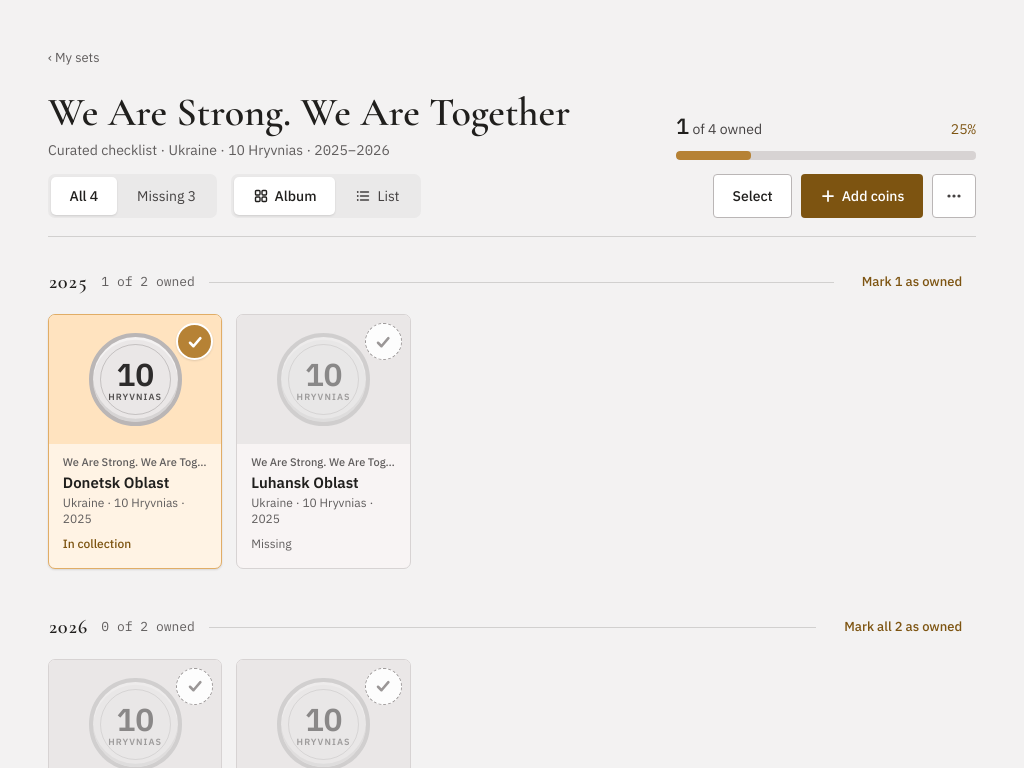
SetEditorPage › rename (behind the ⋯ menu) › cancels on Escape: no mutate, the input goes away and the old name stays
The width and height of the screenshot is (1024, 768).
Expected: the heading "We Are Strong. We Are Together" is shown, [48,90,648,134]
Click the button with test id "set-editor-actions-trigger".
click(954, 196)  # box [932,174,976,218]
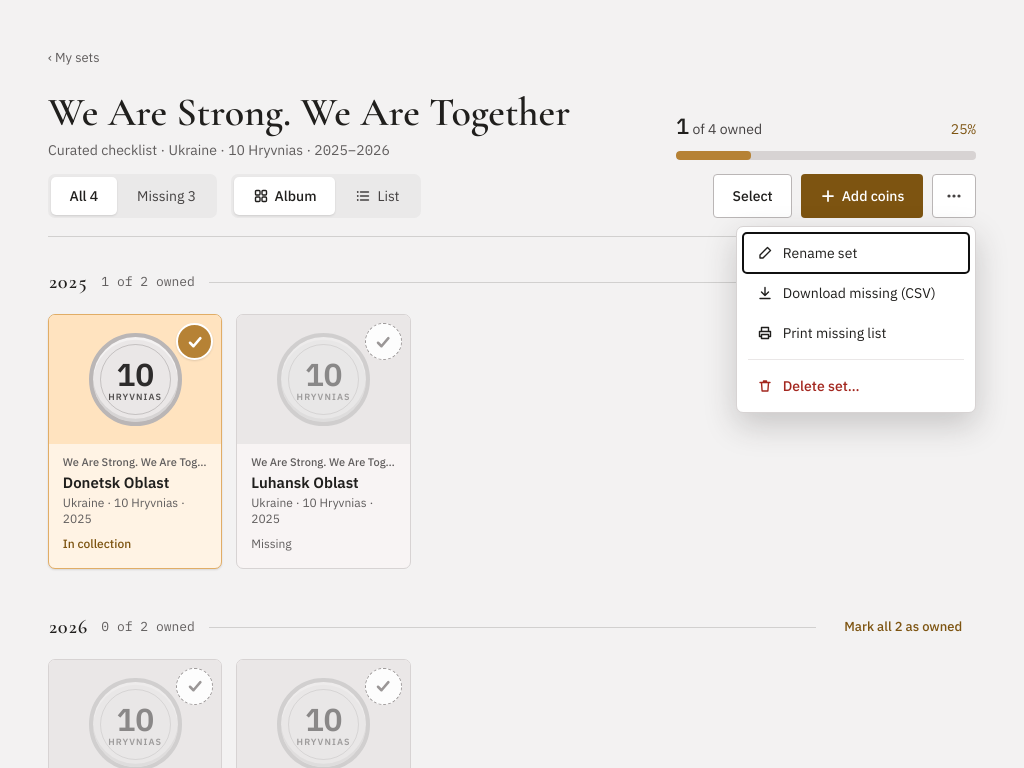
Click the menu item with test id "set-editor-rename-item".
click(856, 253)  # box [743,233,969,273]
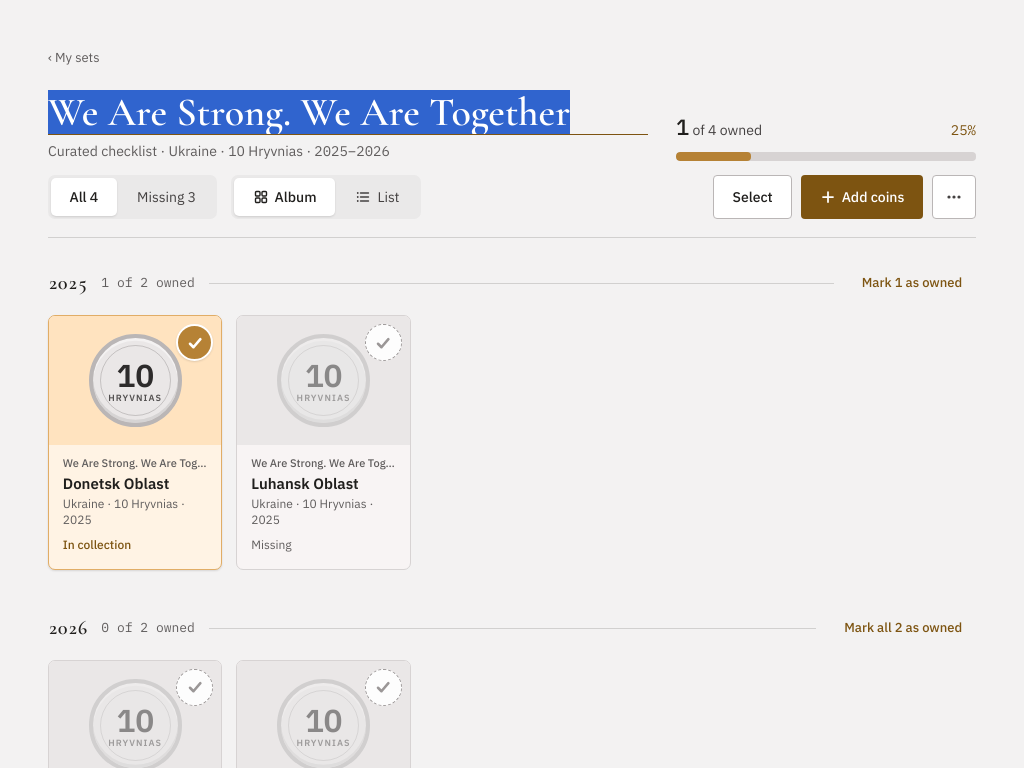
Replace the text in the field with test id "set-editor-name-input" with "Discarded" at (348, 112), box [48,90,648,135]
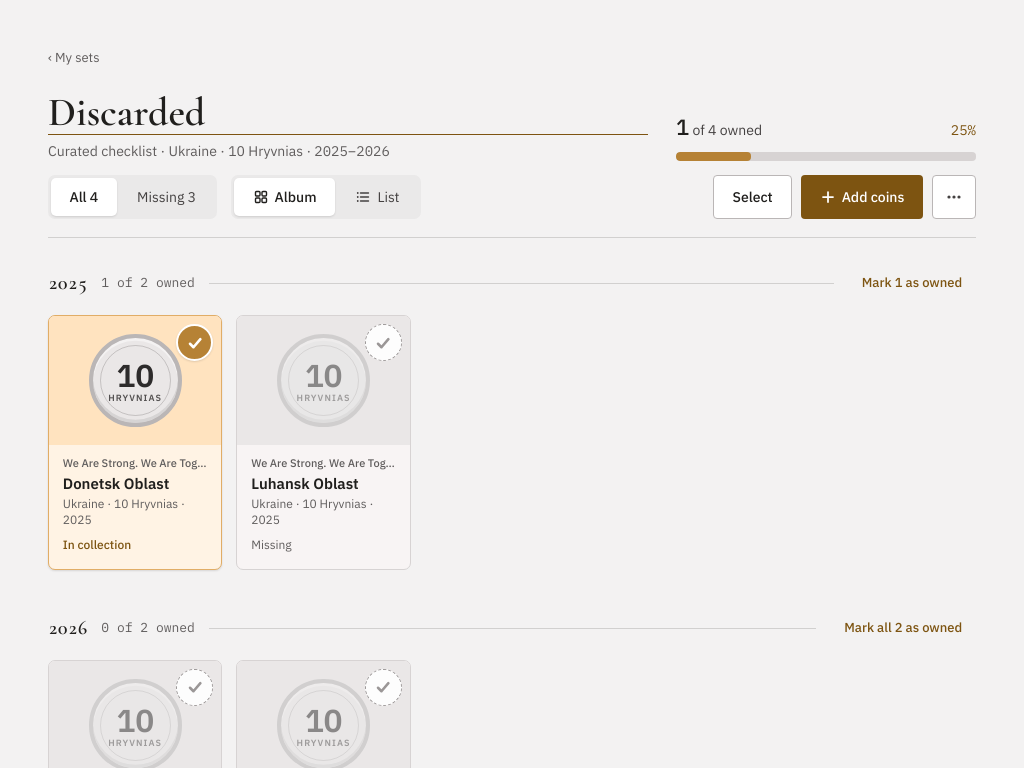
Press Escape in the field with test id "set-editor-name-input", box [48,90,648,135]
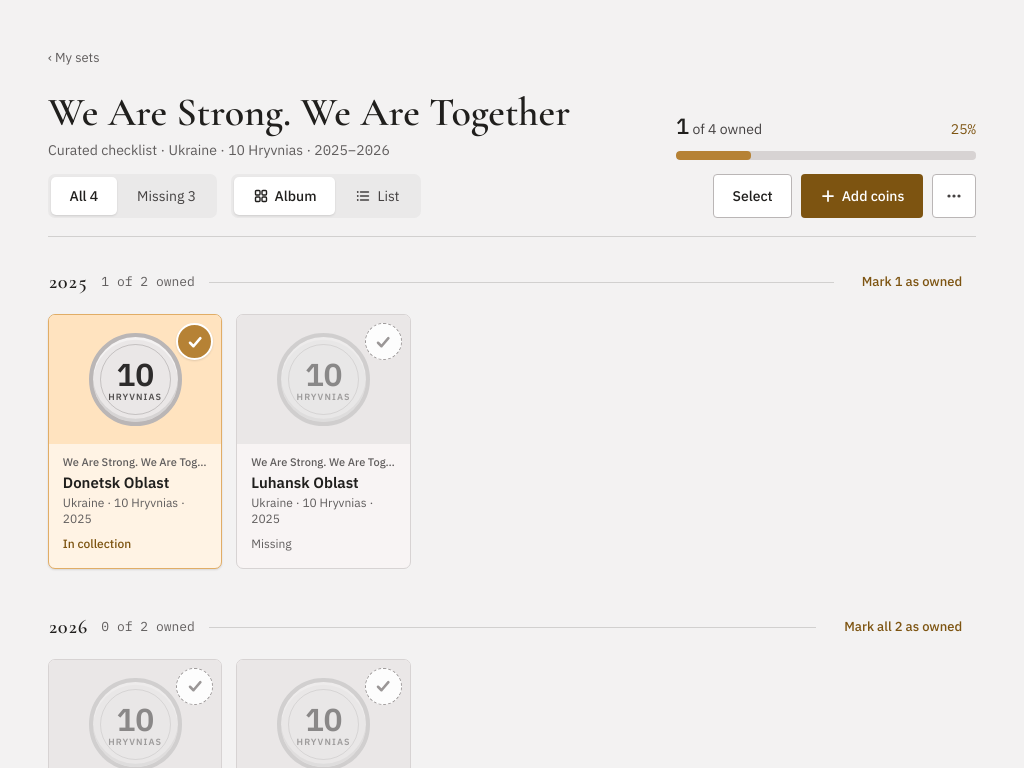
Now the field with test id "set-editor-name-input" is gone
Now the heading with test id "set-editor-name" reads "We Are Strong. We Are Together", box [48,88,570,136]
